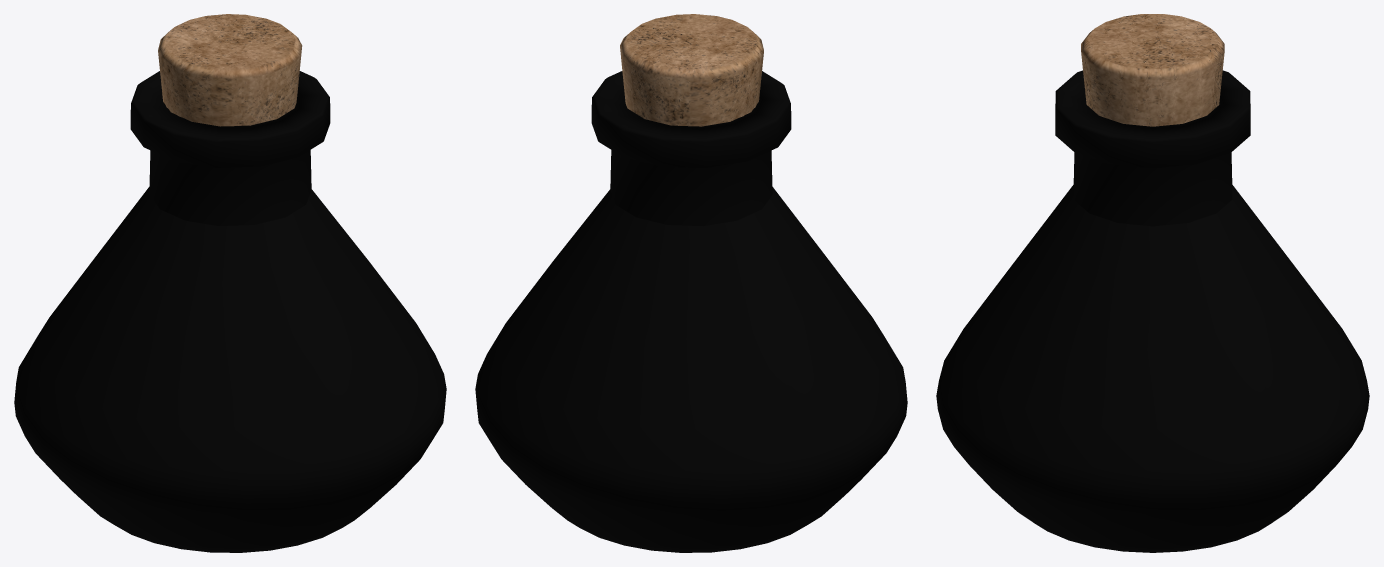
The model's file is Jar_01_Clear.fbx.
3 views of the same model, side by side, from view 1: azimuth 30°, elevation 25°; view 2: azimuth 150°, elevation 25°; view 3: azimuth 270°, elevation 25° (orthographic).
Visible parts, largest first — view 1: pCylinder4; view 2: pCylinder4; view 3: pCylinder4.
Boxes of the visible parts, left/top/right/bottom form: pCylinder4: left=14, top=14, right=446, bottom=552; pCylinder4: left=475, top=14, right=907, bottom=552; pCylinder4: left=936, top=14, right=1369, bottom=552.
Bounding box in the file's own units: 1.74 × 2.03 × 1.74.
2 materials, 1 textured.
